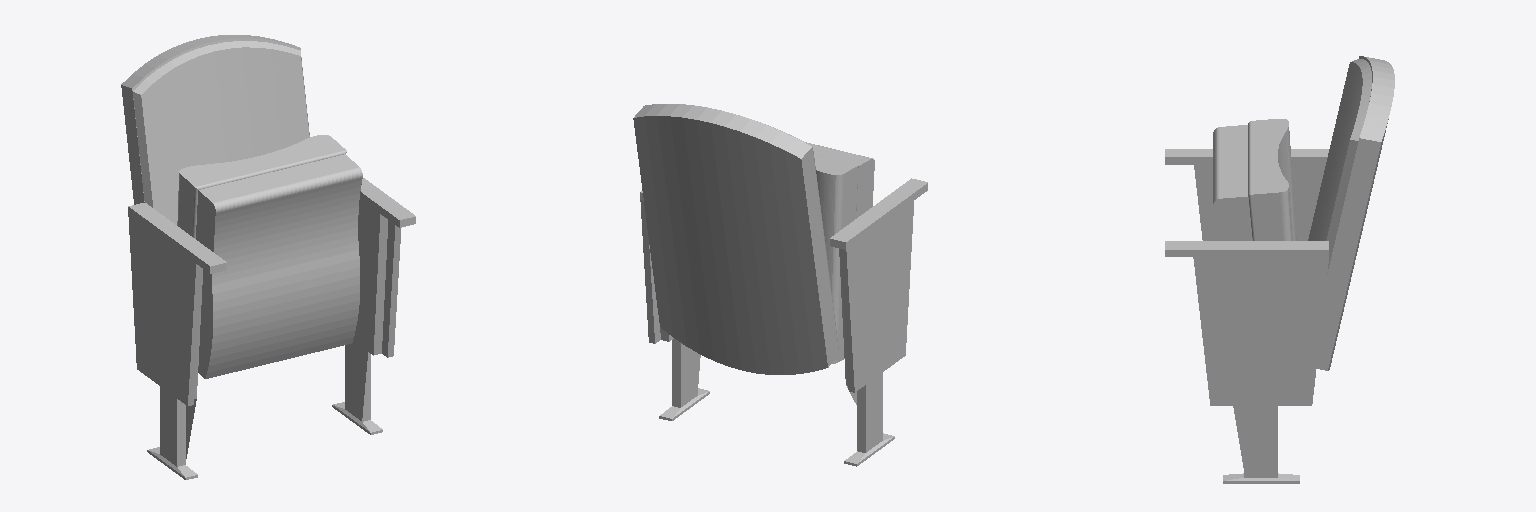
Rendered from butaca.obj.
The picture shows the model from 3 angles: view 1: azimuth 30°, elevation 25°; view 2: azimuth 150°, elevation 25°; view 3: azimuth 270°, elevation 25°; orthographic projection.
Visible parts, largest first — view 1: Mesh7 SEAT SEAT_AND_REST1 THEATER_SEAT Model, Mesh9 SEAT_AND_REST1 THEATER_SEAT Model, Mesh5 SIDE_OF_ARM1 LEFT_CHAIR_ARM1 THEATER_SEAT Model, Mesh3 RIGHT_CHAIR_ARM1 THEATER_SEAT Model, Mesh10 SEAT_AND_REST1 THEATER_SEAT Model, Mesh8 REST SEAT_AND_REST1 THEATER_SEAT Model, Mesh6 LEFT_CHAIR_ARM1 THEATER_SEAT Model, Mesh4 ARM_1 LEFT_CHAIR_ARM1 THEATER_SEAT Model, Mesh2 SIDE_OF_ARM_2 RIGHT_CHAIR_ARM1 THEATER_SEAT Model, Mesh1 ARM_2 RIGHT_CHAIR_ARM1 THEATER_SEAT Model; view 2: Mesh8 REST SEAT_AND_REST1 THEATER_SEAT Model, Mesh5 SIDE_OF_ARM1 LEFT_CHAIR_ARM1 THEATER_SEAT Model, Mesh10 SEAT_AND_REST1 THEATER_SEAT Model, Mesh6 LEFT_CHAIR_ARM1 THEATER_SEAT Model, Mesh3 RIGHT_CHAIR_ARM1 THEATER_SEAT Model, Mesh4 ARM_1 LEFT_CHAIR_ARM1 THEATER_SEAT Model, Mesh7 SEAT SEAT_AND_REST1 THEATER_SEAT Model, Mesh2 SIDE_OF_ARM_2 RIGHT_CHAIR_ARM1 THEATER_SEAT Model; view 3: Mesh2 SIDE_OF_ARM_2 RIGHT_CHAIR_ARM1 THEATER_SEAT Model, Mesh8 REST SEAT_AND_REST1 THEATER_SEAT Model, Mesh10 SEAT_AND_REST1 THEATER_SEAT Model, Mesh9 SEAT_AND_REST1 THEATER_SEAT Model, Mesh7 SEAT SEAT_AND_REST1 THEATER_SEAT Model, Mesh3 RIGHT_CHAIR_ARM1 THEATER_SEAT Model, Mesh1 ARM_2 RIGHT_CHAIR_ARM1 THEATER_SEAT Model, Mesh6 LEFT_CHAIR_ARM1 THEATER_SEAT Model, Mesh5 SIDE_OF_ARM1 LEFT_CHAIR_ARM1 THEATER_SEAT Model, Mesh4 ARM_1 LEFT_CHAIR_ARM1 THEATER_SEAT Model.
Boxes of the visible parts, box(x1,y1,x2,y2) form: Mesh7 SEAT SEAT_AND_REST1 THEATER_SEAT Model: box(196, 154, 362, 378); Mesh9 SEAT_AND_REST1 THEATER_SEAT Model: box(133, 41, 309, 224); Mesh5 SIDE_OF_ARM1 LEFT_CHAIR_ARM1 THEATER_SEAT Model: box(128, 214, 201, 405); Mesh3 RIGHT_CHAIR_ARM1 THEATER_SEAT Model: box(332, 200, 387, 434); Mesh10 SEAT_AND_REST1 THEATER_SEAT Model: box(177, 135, 346, 238); Mesh8 REST SEAT_AND_REST1 THEATER_SEAT Model: box(121, 35, 309, 204); Mesh6 LEFT_CHAIR_ARM1 THEATER_SEAT Model: box(147, 268, 202, 479); Mesh4 ARM_1 LEFT_CHAIR_ARM1 THEATER_SEAT Model: box(128, 203, 226, 273); Mesh2 SIDE_OF_ARM_2 RIGHT_CHAIR_ARM1 THEATER_SEAT Model: box(382, 220, 400, 357); Mesh1 ARM_2 RIGHT_CHAIR_ARM1 THEATER_SEAT Model: box(361, 178, 415, 227); Mesh8 REST SEAT_AND_REST1 THEATER_SEAT Model: box(633, 104, 838, 374); Mesh5 SIDE_OF_ARM1 LEFT_CHAIR_ARM1 THEATER_SEAT Model: box(840, 201, 913, 392); Mesh10 SEAT_AND_REST1 THEATER_SEAT Model: box(814, 155, 858, 363); Mesh6 LEFT_CHAIR_ARM1 THEATER_SEAT Model: box(839, 249, 894, 466); Mesh3 RIGHT_CHAIR_ARM1 THEATER_SEAT Model: box(659, 327, 709, 420); Mesh4 ARM_1 LEFT_CHAIR_ARM1 THEATER_SEAT Model: box(830, 178, 927, 249); Mesh7 SEAT SEAT_AND_REST1 THEATER_SEAT Model: box(806, 142, 874, 218); Mesh2 SIDE_OF_ARM_2 RIGHT_CHAIR_ARM1 THEATER_SEAT Model: box(640, 200, 660, 343); Mesh2 SIDE_OF_ARM_2 RIGHT_CHAIR_ARM1 THEATER_SEAT Model: box(1193, 257, 1328, 405); Mesh8 REST SEAT_AND_REST1 THEATER_SEAT Model: box(1317, 56, 1394, 370); Mesh10 SEAT_AND_REST1 THEATER_SEAT Model: box(1248, 119, 1296, 240); Mesh9 SEAT_AND_REST1 THEATER_SEAT Model: box(1308, 59, 1371, 273); Mesh7 SEAT SEAT_AND_REST1 THEATER_SEAT Model: box(1213, 125, 1252, 240); Mesh3 RIGHT_CHAIR_ARM1 THEATER_SEAT Model: box(1223, 406, 1299, 483); Mesh1 ARM_2 RIGHT_CHAIR_ARM1 THEATER_SEAT Model: box(1165, 241, 1328, 256); Mesh6 LEFT_CHAIR_ARM1 THEATER_SEAT Model: box(1208, 165, 1314, 240); Mesh5 SIDE_OF_ARM1 LEFT_CHAIR_ARM1 THEATER_SEAT Model: box(1194, 165, 1325, 240); Mesh4 ARM_1 LEFT_CHAIR_ARM1 THEATER_SEAT Model: box(1165, 149, 1328, 164).
Size of the model in its own units: 20.88 by 34.77 by 20.19.